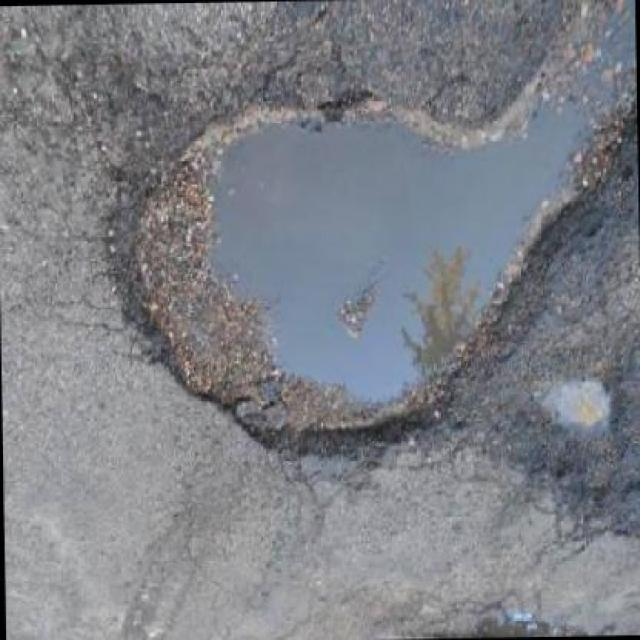pothole1: (98, 87, 570, 476), (518, 368, 638, 518), (470, 609, 562, 636)
